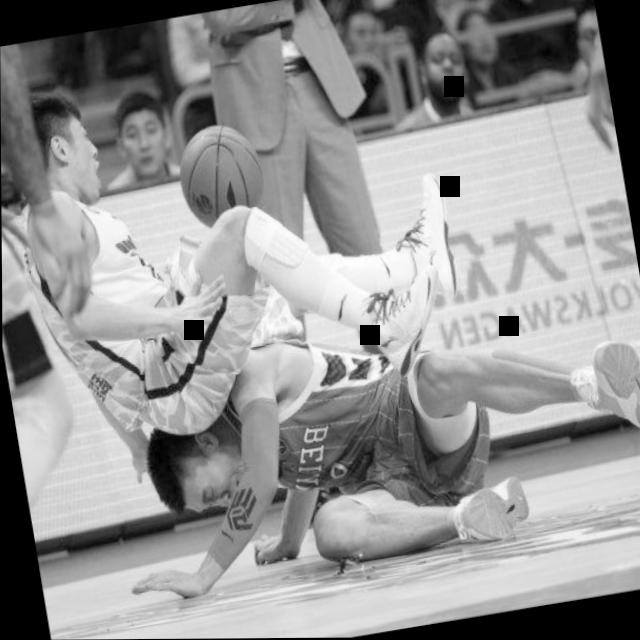Fall-Detected: (93, 271, 630, 603)
